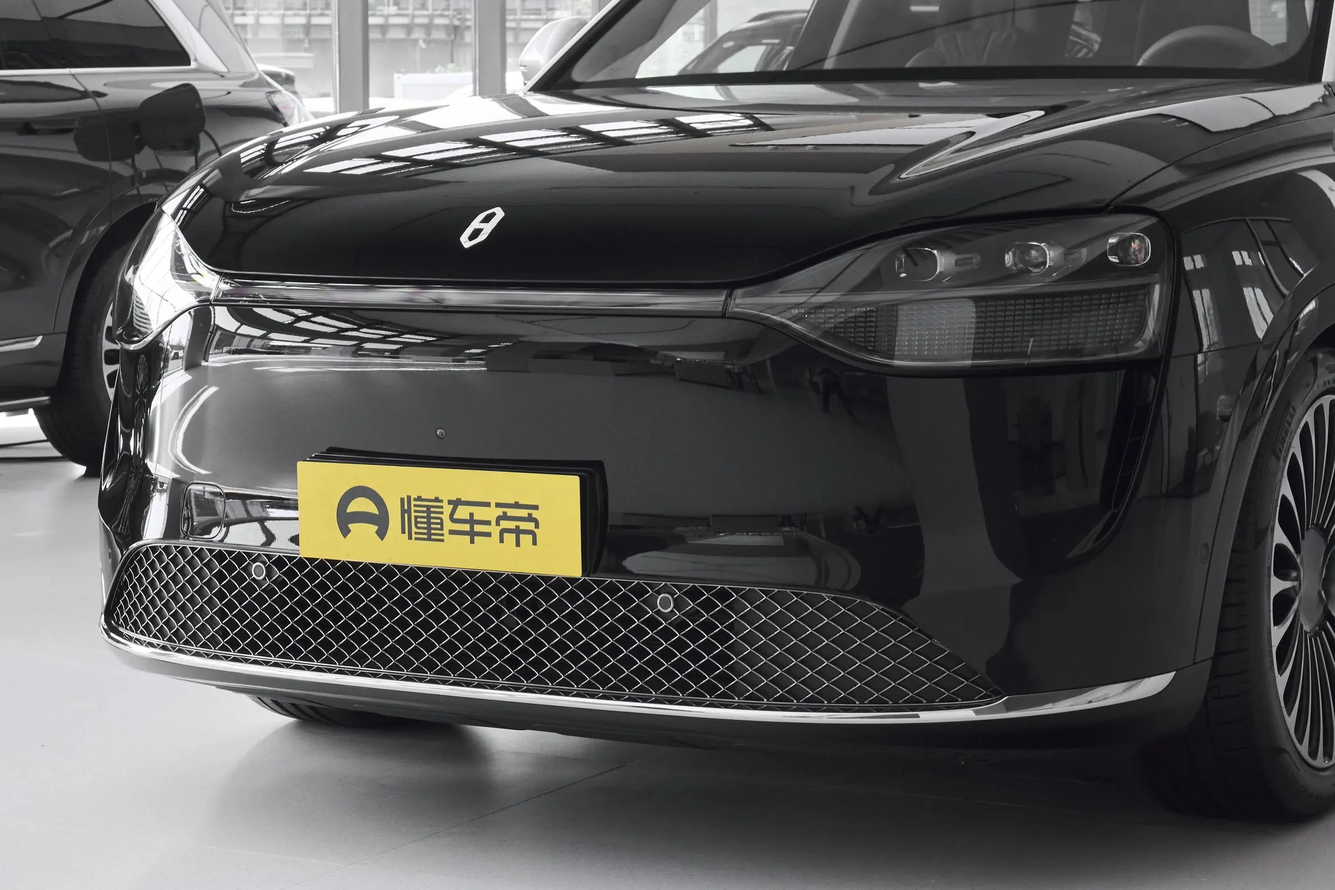AITO: (460, 207, 504, 248)
